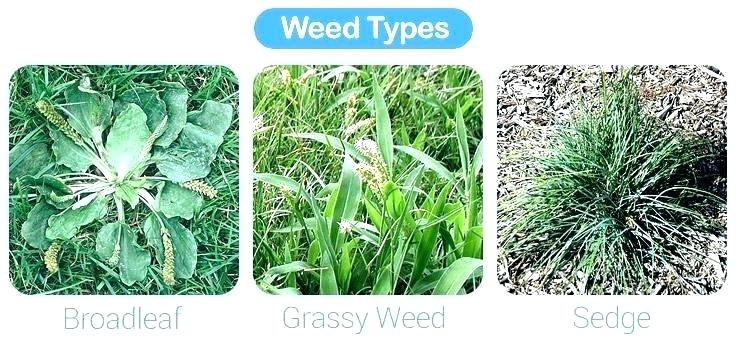crabgrass: (276, 117, 473, 293)
